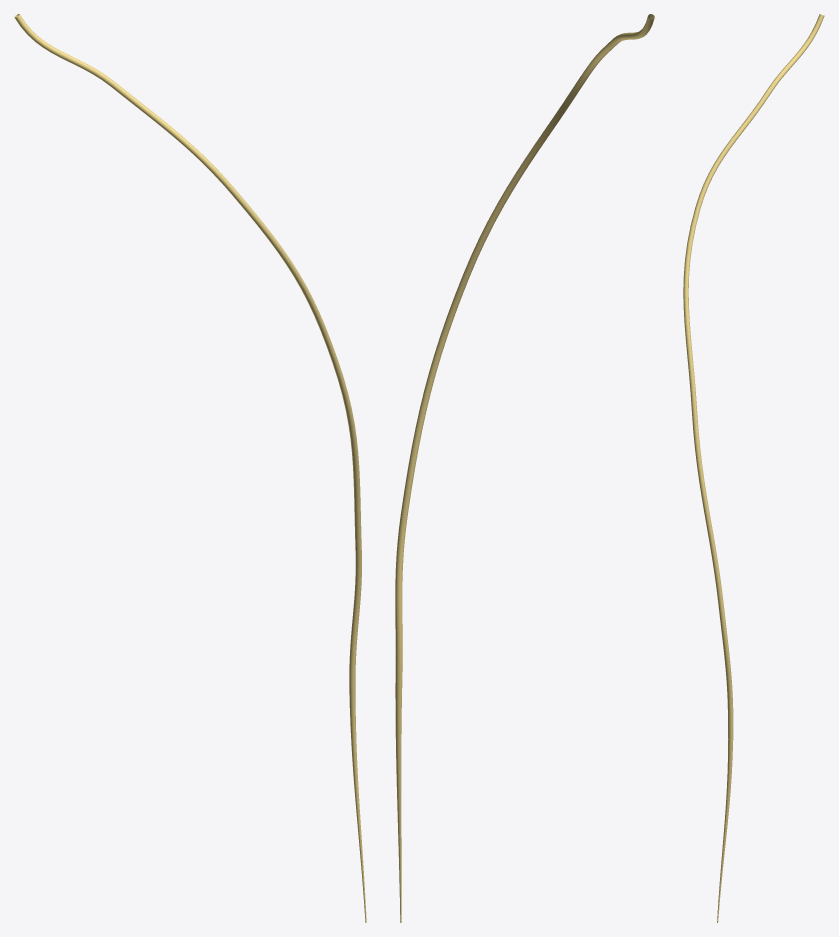
The picture shows the model from 3 angles, left to right: view 1: azimuth 30°, elevation 25°; view 2: azimuth 150°, elevation 25°; view 3: azimuth 270°, elevation 25°; orthographic projection. The views are drawn at different scales.
Visible parts, largest first — view 1: ZA_a58d4d854ea96609; view 2: ZA_a58d4d854ea96609; view 3: ZA_a58d4d854ea96609.
Boxes of the visible parts, <box> form: ZA_a58d4d854ea96609: <box>14,14,366,922</box>; ZA_a58d4d854ea96609: <box>395,14,654,922</box>; ZA_a58d4d854ea96609: <box>683,14,824,922</box>.
Size of the model in its own units: 0.0528 by 0.162 by 0.0262.
